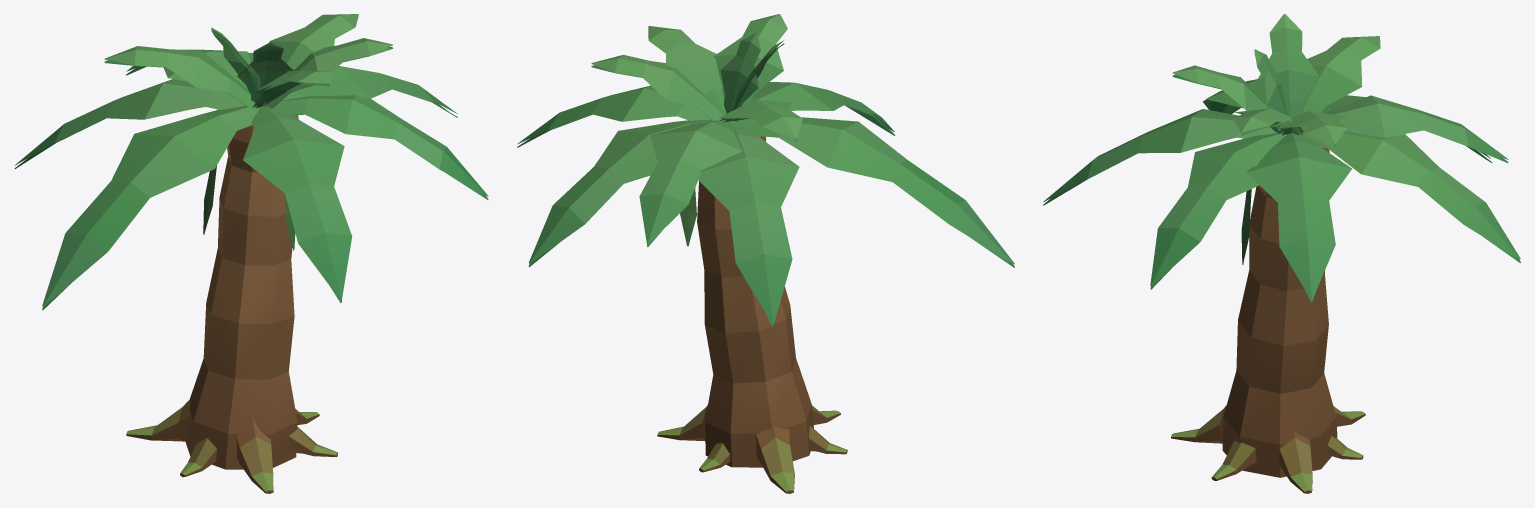
Rendered from world_tree_colossal_palm_v3_lod1.fbx.
3 views of the same model, side by side, from view 1: azimuth 30°, elevation 25°; view 2: azimuth 150°, elevation 25°; view 3: azimuth 270°, elevation 25° (orthographic). The views are drawn at different scales.
Visible parts, largest first — view 1: world_tree_colossal_palm_v3_lod1; view 2: world_tree_colossal_palm_v3_lod1; view 3: world_tree_colossal_palm_v3_lod1.
Part boxes in pixels (x1=…): world_tree_colossal_palm_v3_lod1: x1=14, y1=14, x2=488, y2=493; world_tree_colossal_palm_v3_lod1: x1=517, y1=14, x2=1014, y2=493; world_tree_colossal_palm_v3_lod1: x1=1043, y1=14, x2=1520, y2=493.
Bounding box in the file's own units: 11855 × 10502 × 10661.
